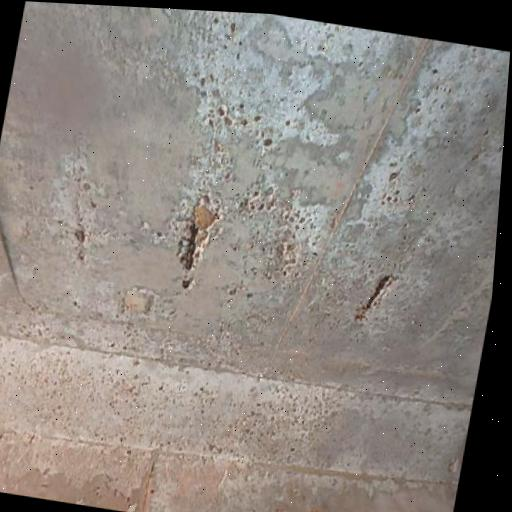exposed_rebar: (355, 276, 396, 321), (186, 240, 194, 270), (189, 225, 198, 243), (182, 278, 191, 288)
